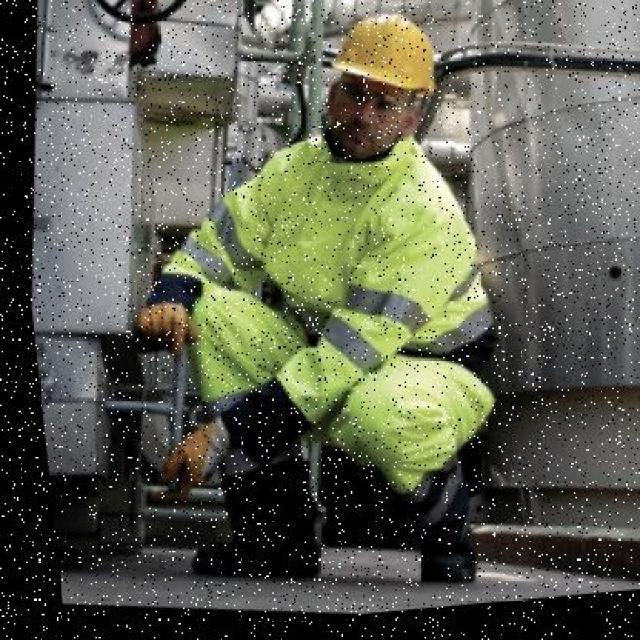helmet: (317, 6, 445, 113)
vest: (108, 111, 518, 536)
